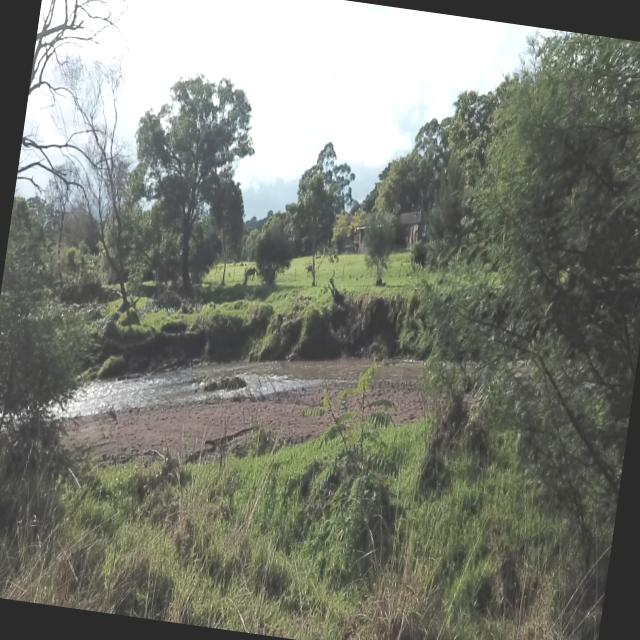Mysore-Thorn-Weed: (277, 338, 419, 562)
